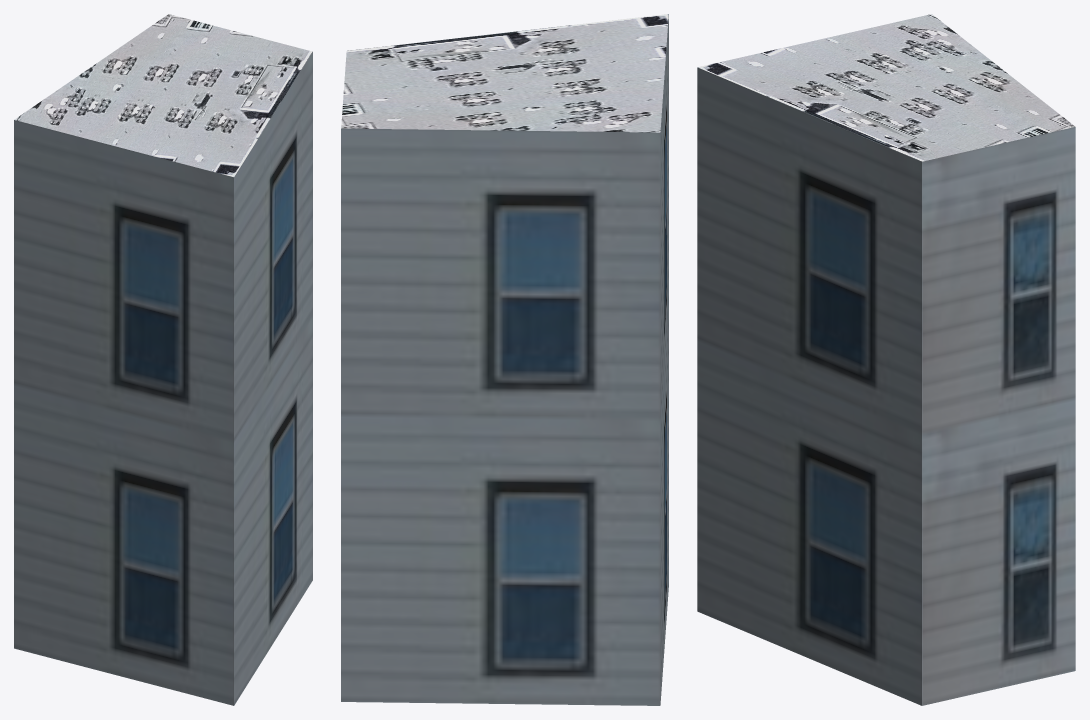
The model's file is ResTex__5302.fbx.
3 renders of one model, left to right at view 1: azimuth 30°, elevation 25°; view 2: azimuth 150°, elevation 25°; view 3: azimuth 270°, elevation 25°, orthographic. The views are drawn at different scales.
Visible parts, largest first — view 1: CityEngineMaterial_18_m, CityEngineMaterial_m; view 2: CityEngineMaterial_18_m, CityEngineMaterial_m; view 3: CityEngineMaterial_18_m, CityEngineMaterial_m.
Boxes of the visible parts, <box> form: CityEngineMaterial_18_m: <box>14,52,312,705</box>; CityEngineMaterial_m: <box>14,14,312,177</box>; CityEngineMaterial_18_m: <box>341,14,668,705</box>; CityEngineMaterial_m: <box>341,14,668,132</box>; CityEngineMaterial_18_m: <box>697,67,1075,705</box>; CityEngineMaterial_m: <box>698,14,1075,161</box>.
Bounding box in the file's own units: 3.49 × 6 × 3.78.
2 materials, 2 textured.
